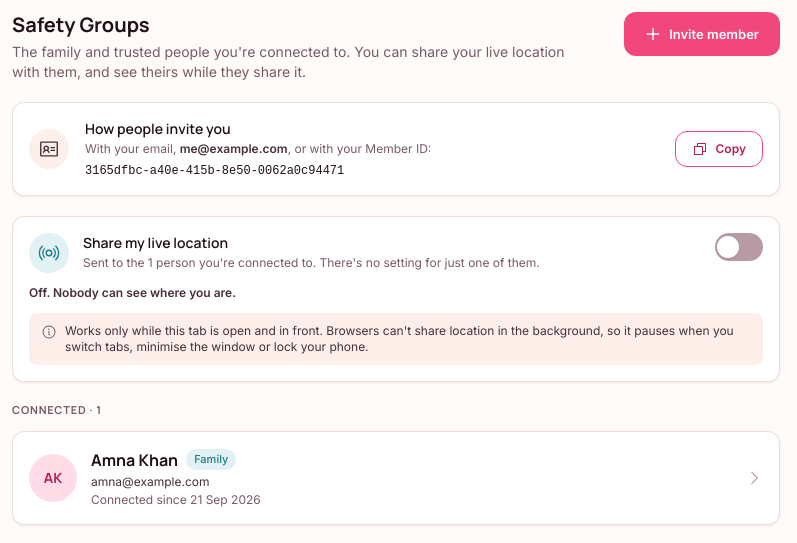
Safety Groups — live location › the list › turning it off stops the position watch and says Off
Click the switch named "Share my live location" at [739, 247], box [715,233,763,261]
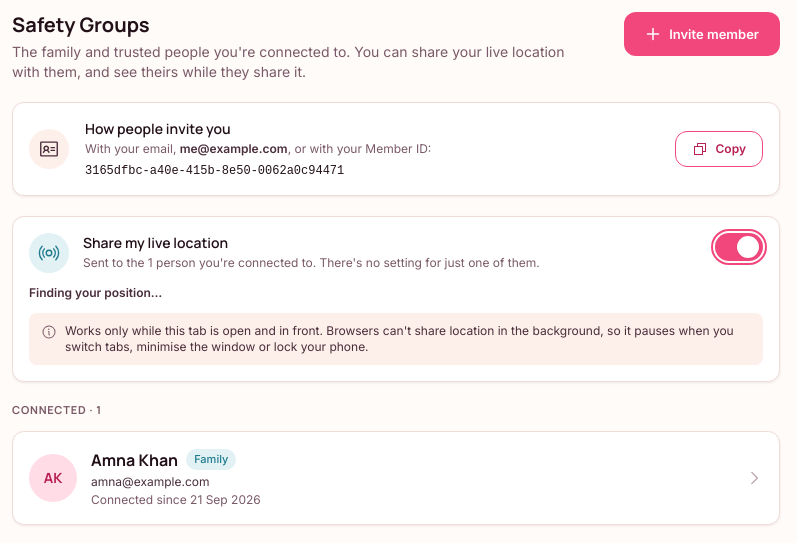
Click the switch named "Share my live location" at [739, 247], box [715,233,763,261]
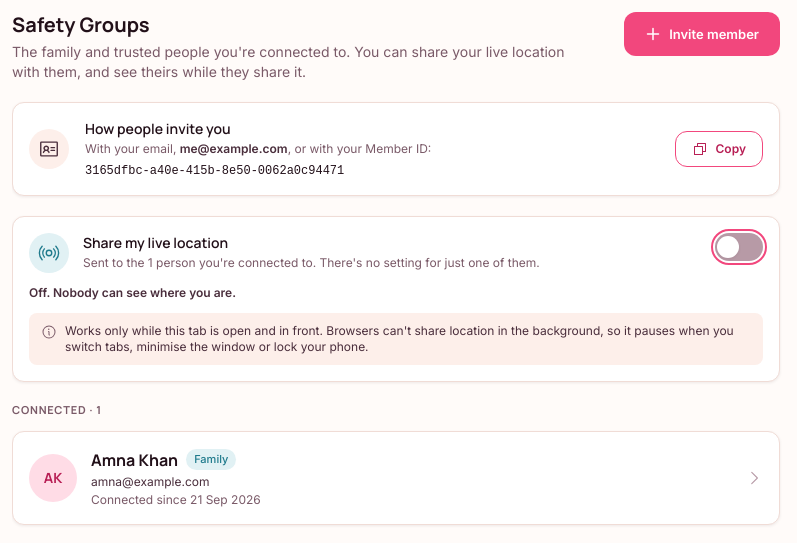
Expected: the switch named "Share my live location" is not checked, [715,233,763,261]
Expected: the text "Off. Nobody can see where you are." is shown, [29,285,236,300]
